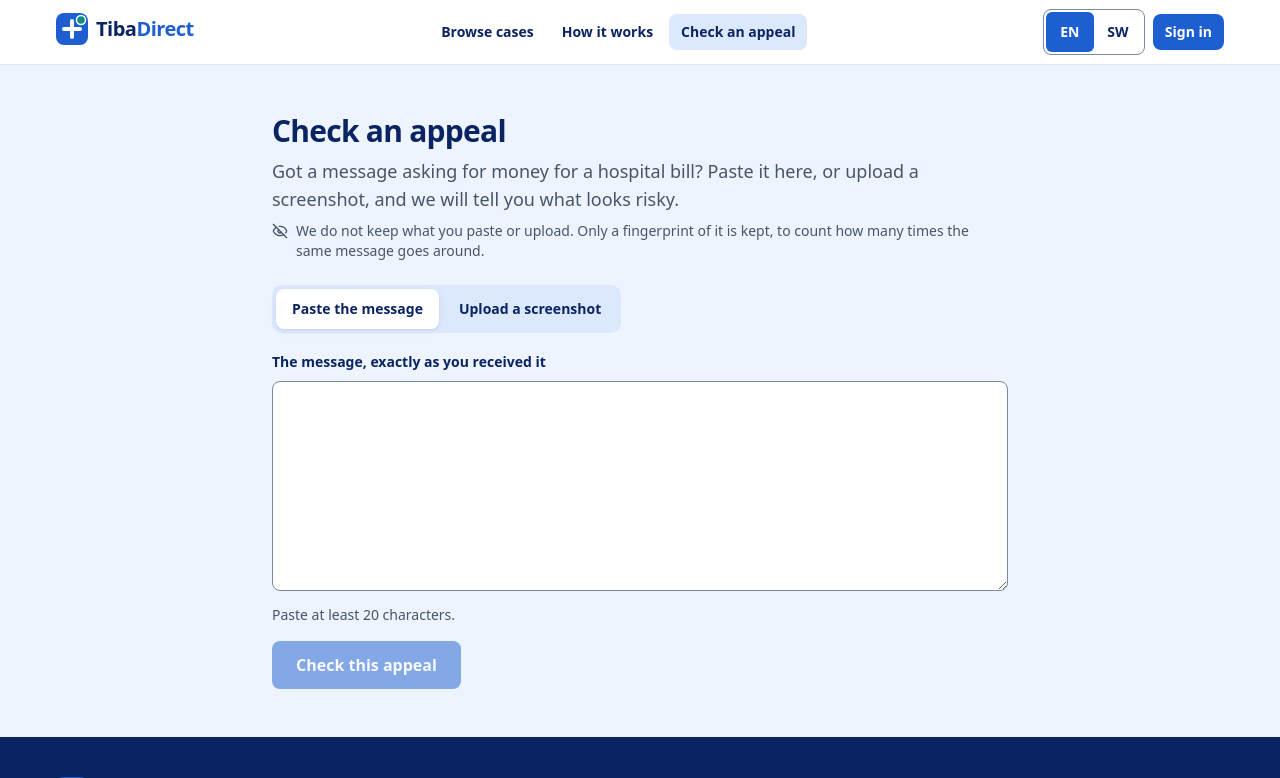
Test case: appeal checker › says how long to wait when rate limited
Type "URGENT!! Please send money to 0712 000 000 today, my child is in hospital and we have no time." into the text box labelled "The message, exactly as you received it".
click(640, 486); type("URGENT!! Please send money to 0712 000 000 today, my child is in hospital and we have no time.")  # box [272,381,1008,591]
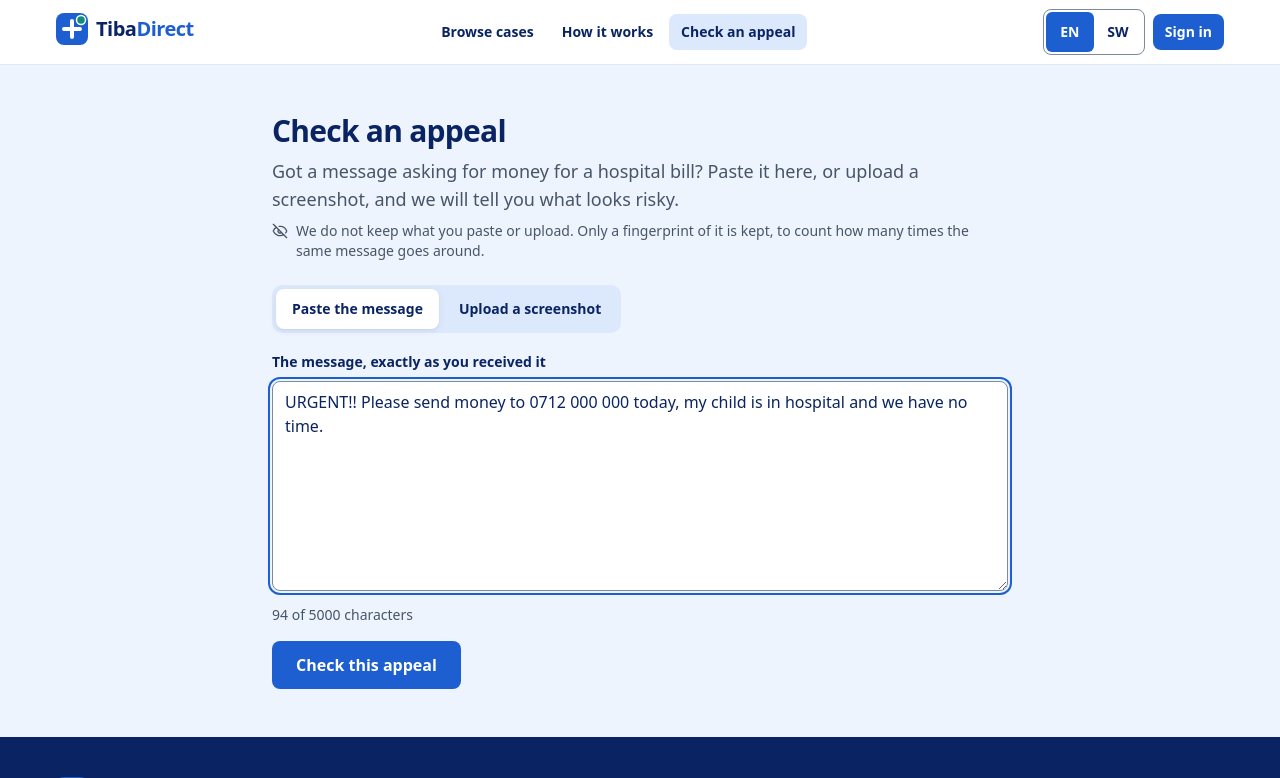
Click the button "Check this appeal".
click(366, 665)  # box [272,641,461,689]
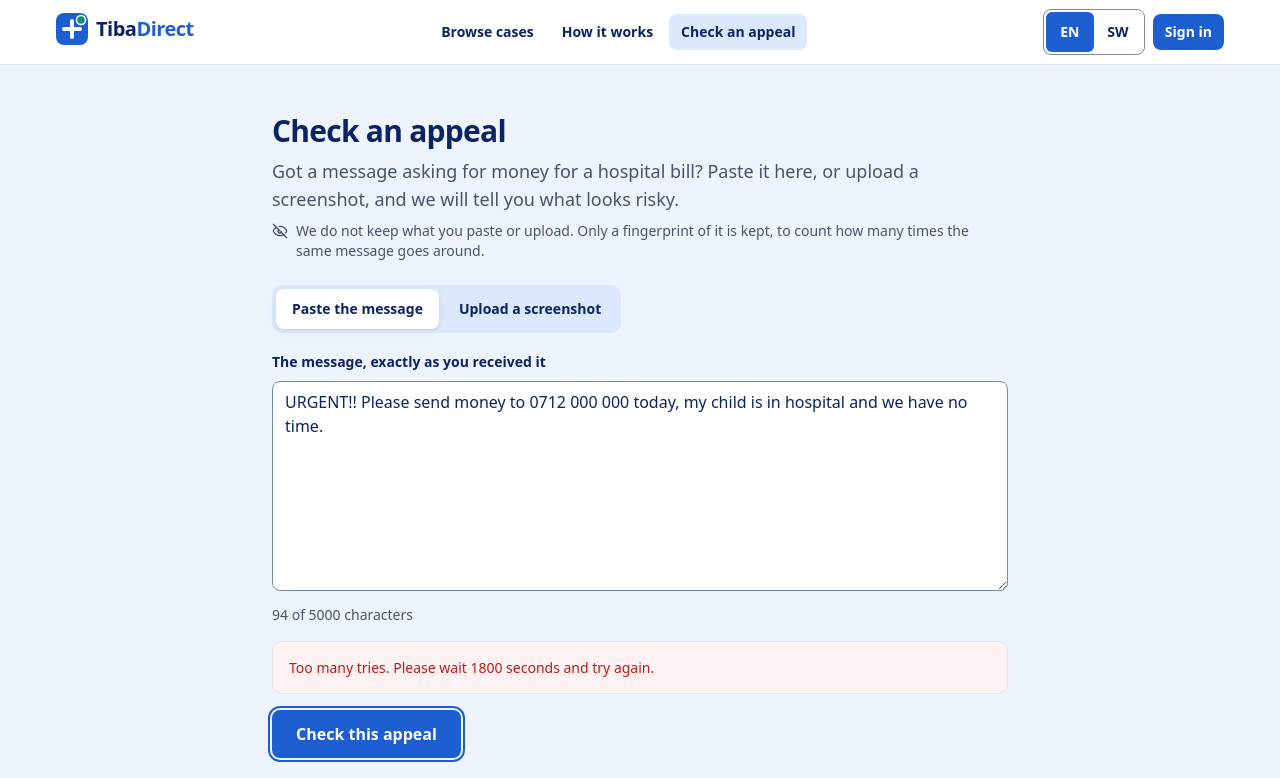
Result: the text "Too many tries. Please wait 1800 seconds and try again." is shown at [289,658,654,677]
